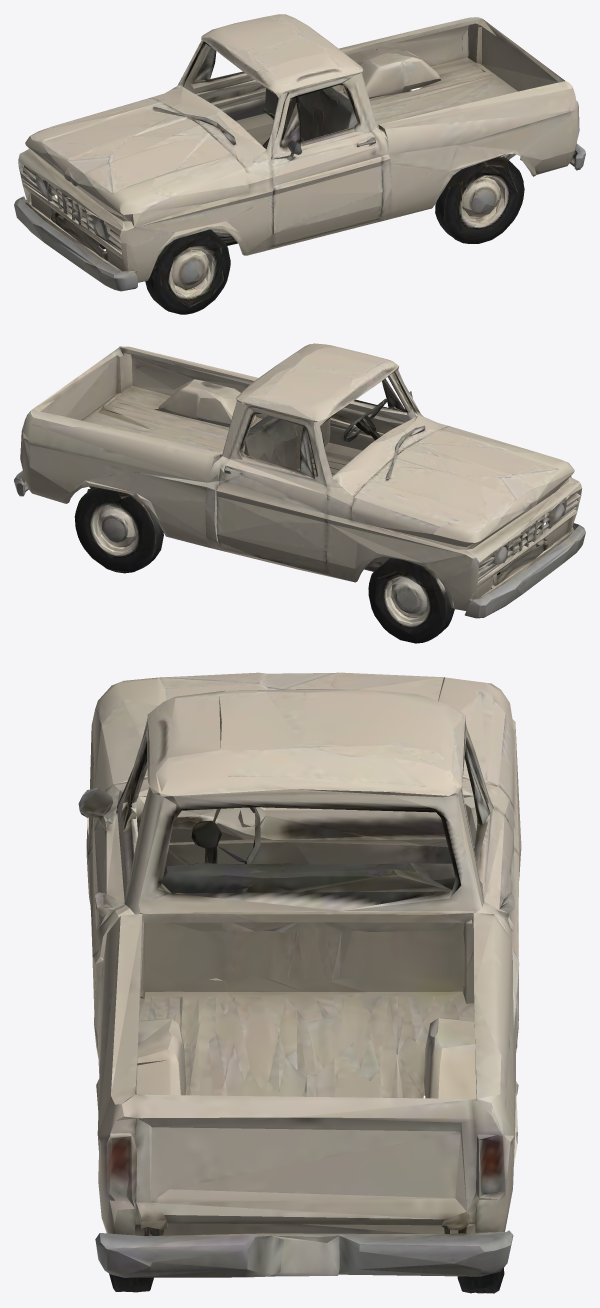
The model's file is car2.glb.
3 renders of one model, top to bottom at view 1: azimuth 30°, elevation 25°; view 2: azimuth 150°, elevation 25°; view 3: azimuth 270°, elevation 25°, orthographic. The views are drawn at different scales.
Parts seen in each view (by area): view 1: Mesh_0; view 2: Mesh_0; view 3: Mesh_0.
Boxes of the visible parts, <box> form: Mesh_0: <box>14,14,585,314</box>; Mesh_0: <box>14,343,585,643</box>; Mesh_0: <box>78,672,521,1293</box>.
Bounding box in the file's own units: 1.9 × 0.7716 × 0.7579.
Materials: 1 (1 with a texture image).
